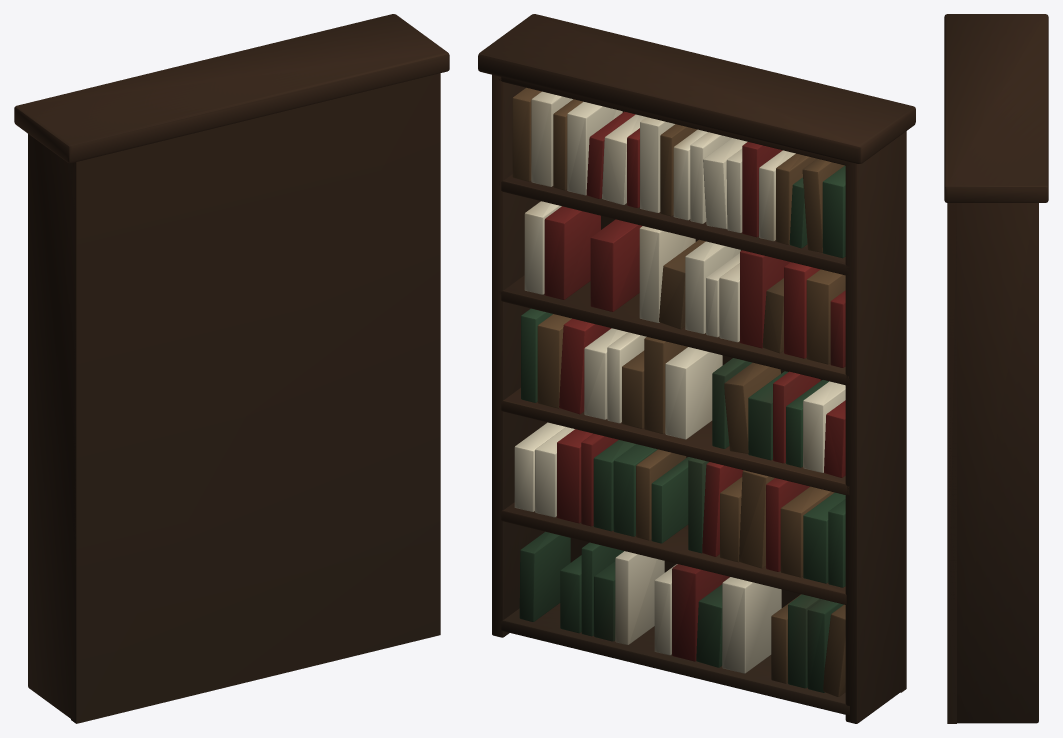
The model's file is Bookshelf.glb.
3 renders of one model, left to right at view 1: azimuth 30°, elevation 25°; view 2: azimuth 150°, elevation 25°; view 3: azimuth 270°, elevation 25°, orthographic. The views are drawn at different scales.
Parts seen in each view (by area): view 1: Bookshelf_wood_dark; view 2: Bookshelf_wood_dark, Bookshelf_paper, Bookshelf_book_red, Bookshelf_book_green, Bookshelf_book_brown; view 3: Bookshelf_wood_dark.
Part boxes in pixels (x1,y1,x2,y2): Bookshelf_wood_dark: (14, 14, 449, 723); Bookshelf_wood_dark: (478, 14, 915, 723); Bookshelf_paper: (514, 91, 845, 673); Bookshelf_book_red: (544, 111, 845, 661); Bookshelf_book_green: (519, 165, 845, 692); Bookshelf_book_brown: (512, 87, 845, 696); Bookshelf_wood_dark: (944, 14, 1048, 723).
Bounding box in the file's own units: 6.3 × 9.15 × 1.6.
